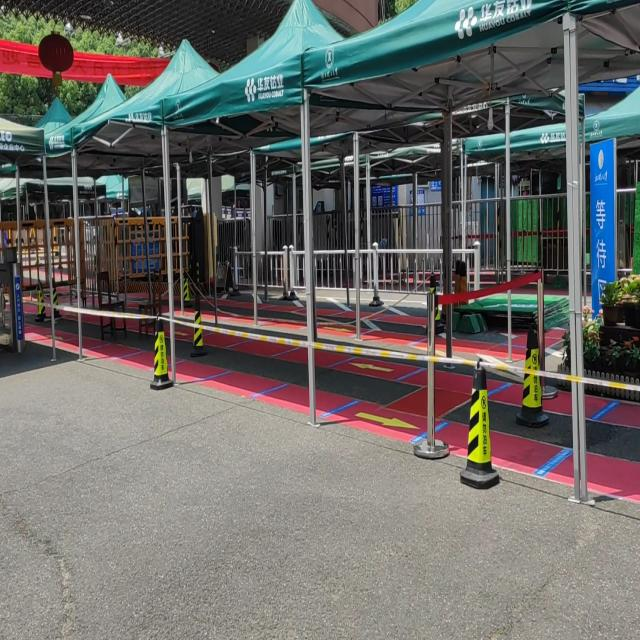reflective_cone: (459, 355, 500, 487), (515, 321, 549, 426), (149, 308, 173, 389), (190, 295, 208, 357), (34, 280, 46, 321), (183, 267, 193, 308), (51, 277, 61, 317)
warning_column: (424, 289, 439, 446), (534, 264, 548, 392)
